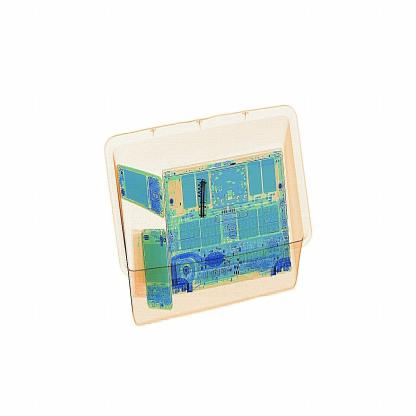scissors: (188, 172, 214, 238)
